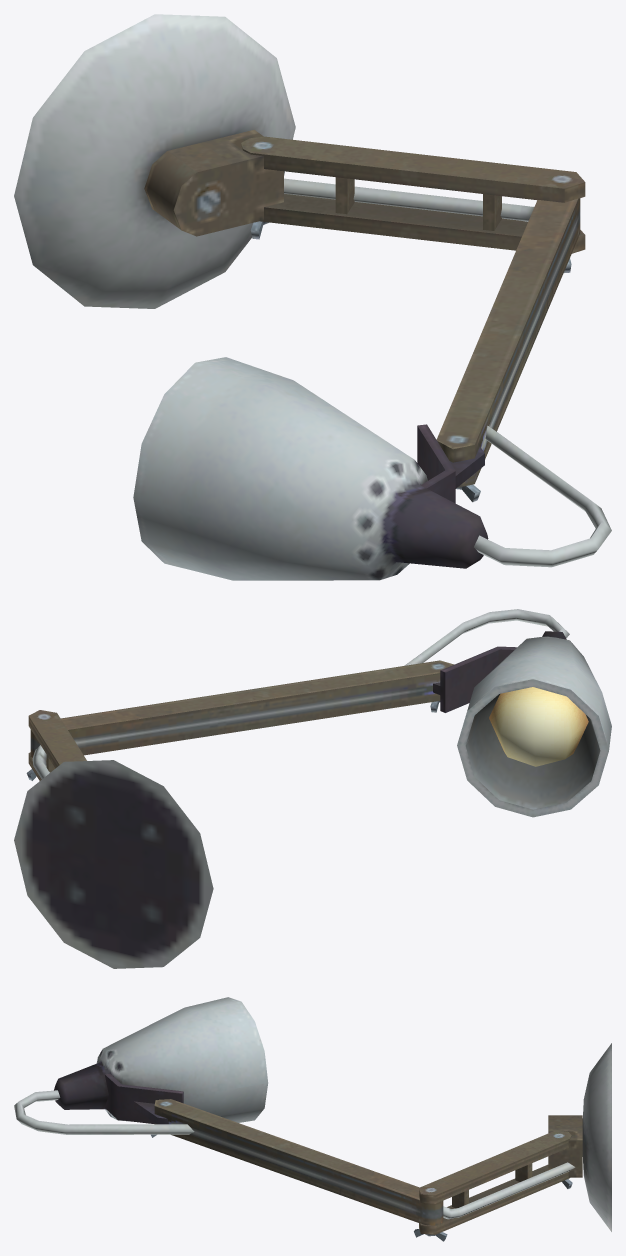
Rendered from p_pent_lamp_desk_on_LOD0.obj.
The picture shows the model from 3 angles, top to bottom: view 1: azimuth 30°, elevation 25°; view 2: azimuth 150°, elevation 25°; view 3: azimuth 270°, elevation 25°; orthographic projection. The views are drawn at different scales.
Parts seen in each view (by area): view 1: mtl_p_pent_lamp_desk; view 2: mtl_p_pent_lamp_desk, mtl_p_pent_lamp_bulb_on; view 3: mtl_p_pent_lamp_desk.
Boxes of the visible parts, <box> form: mtl_p_pent_lamp_desk: <box>14,14,611,580</box>; mtl_p_pent_lamp_desk: <box>14,609,611,968</box>; mtl_p_pent_lamp_bulb_on: <box>489,687,588,766</box>; mtl_p_pent_lamp_desk: <box>14,997,611,1241</box>.
Bounding box in the file's own units: 43.35 × 19.35 × 60.69.
